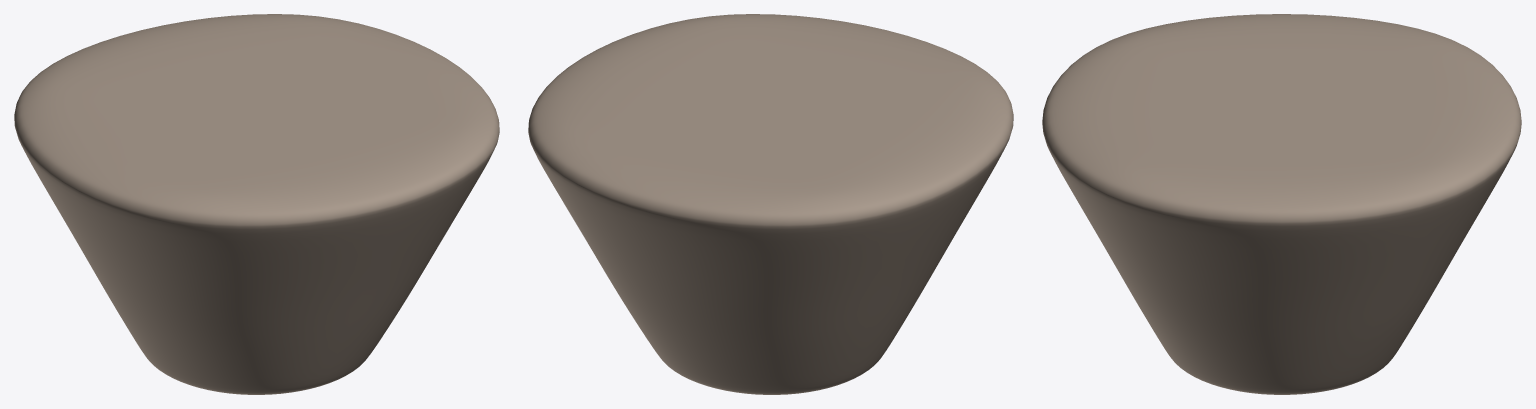
File: cork_jar.fbx
The picture shows the model from 3 angles, left to right: view 1: azimuth 30°, elevation 25°; view 2: azimuth 150°, elevation 25°; view 3: azimuth 270°, elevation 25°; orthographic projection.
Visible parts, largest first — view 1: cork_jar; view 2: cork_jar; view 3: cork_jar.
Boxes of the visible parts, x1,y1,x2,y2 form: cork_jar: [14, 14, 499, 394]; cork_jar: [528, 14, 1013, 394]; cork_jar: [1042, 14, 1521, 394].
Size of the model in its own units: 38.5 by 21.96 by 38.5.
